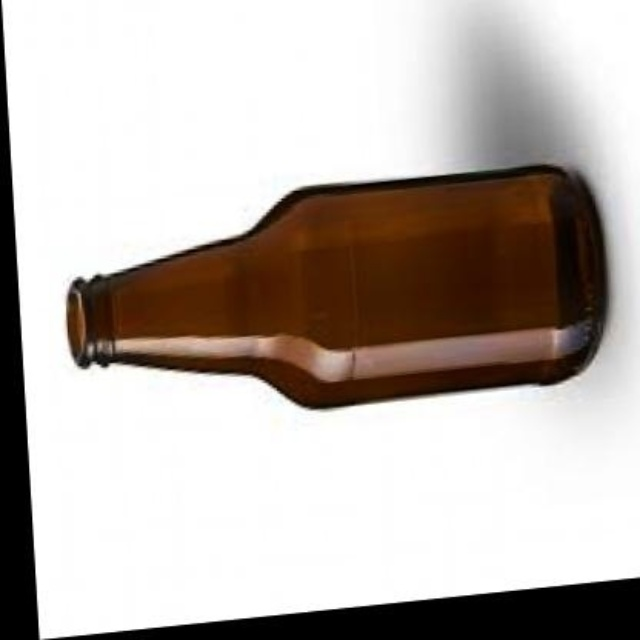trash: (66, 165, 606, 406)
